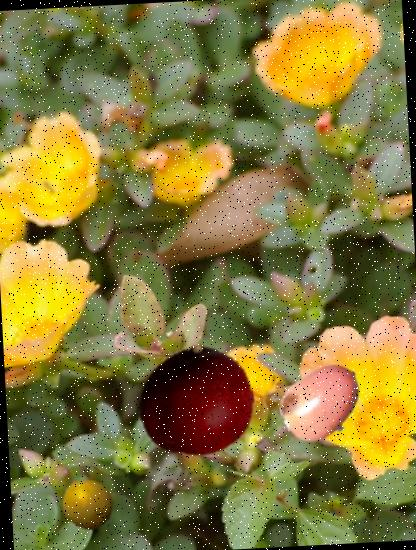Grapefruit: (60, 476, 116, 532)
Kaki: (277, 357, 369, 449)
Nectarine: (134, 339, 258, 462)
